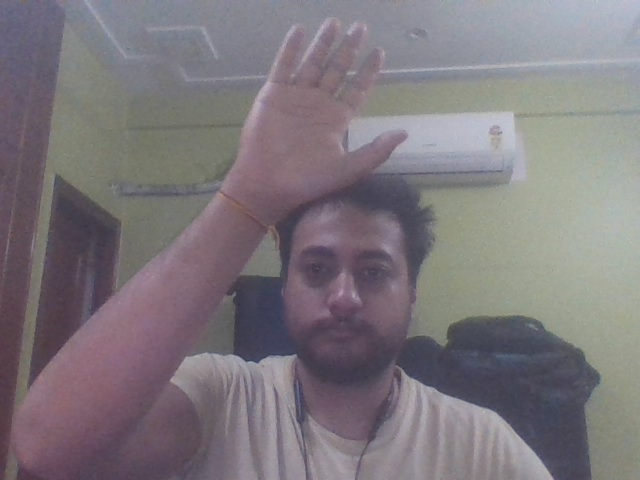Hello: (214, 9, 423, 228)
